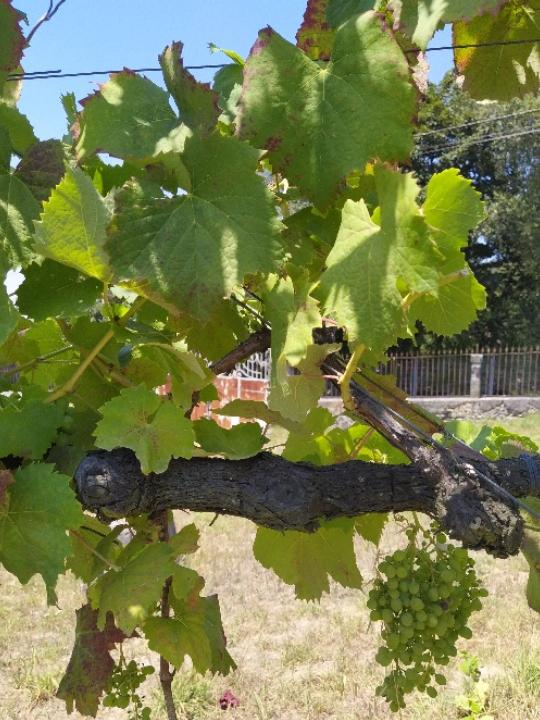grape: (370, 523, 495, 715), (103, 659, 156, 720)
